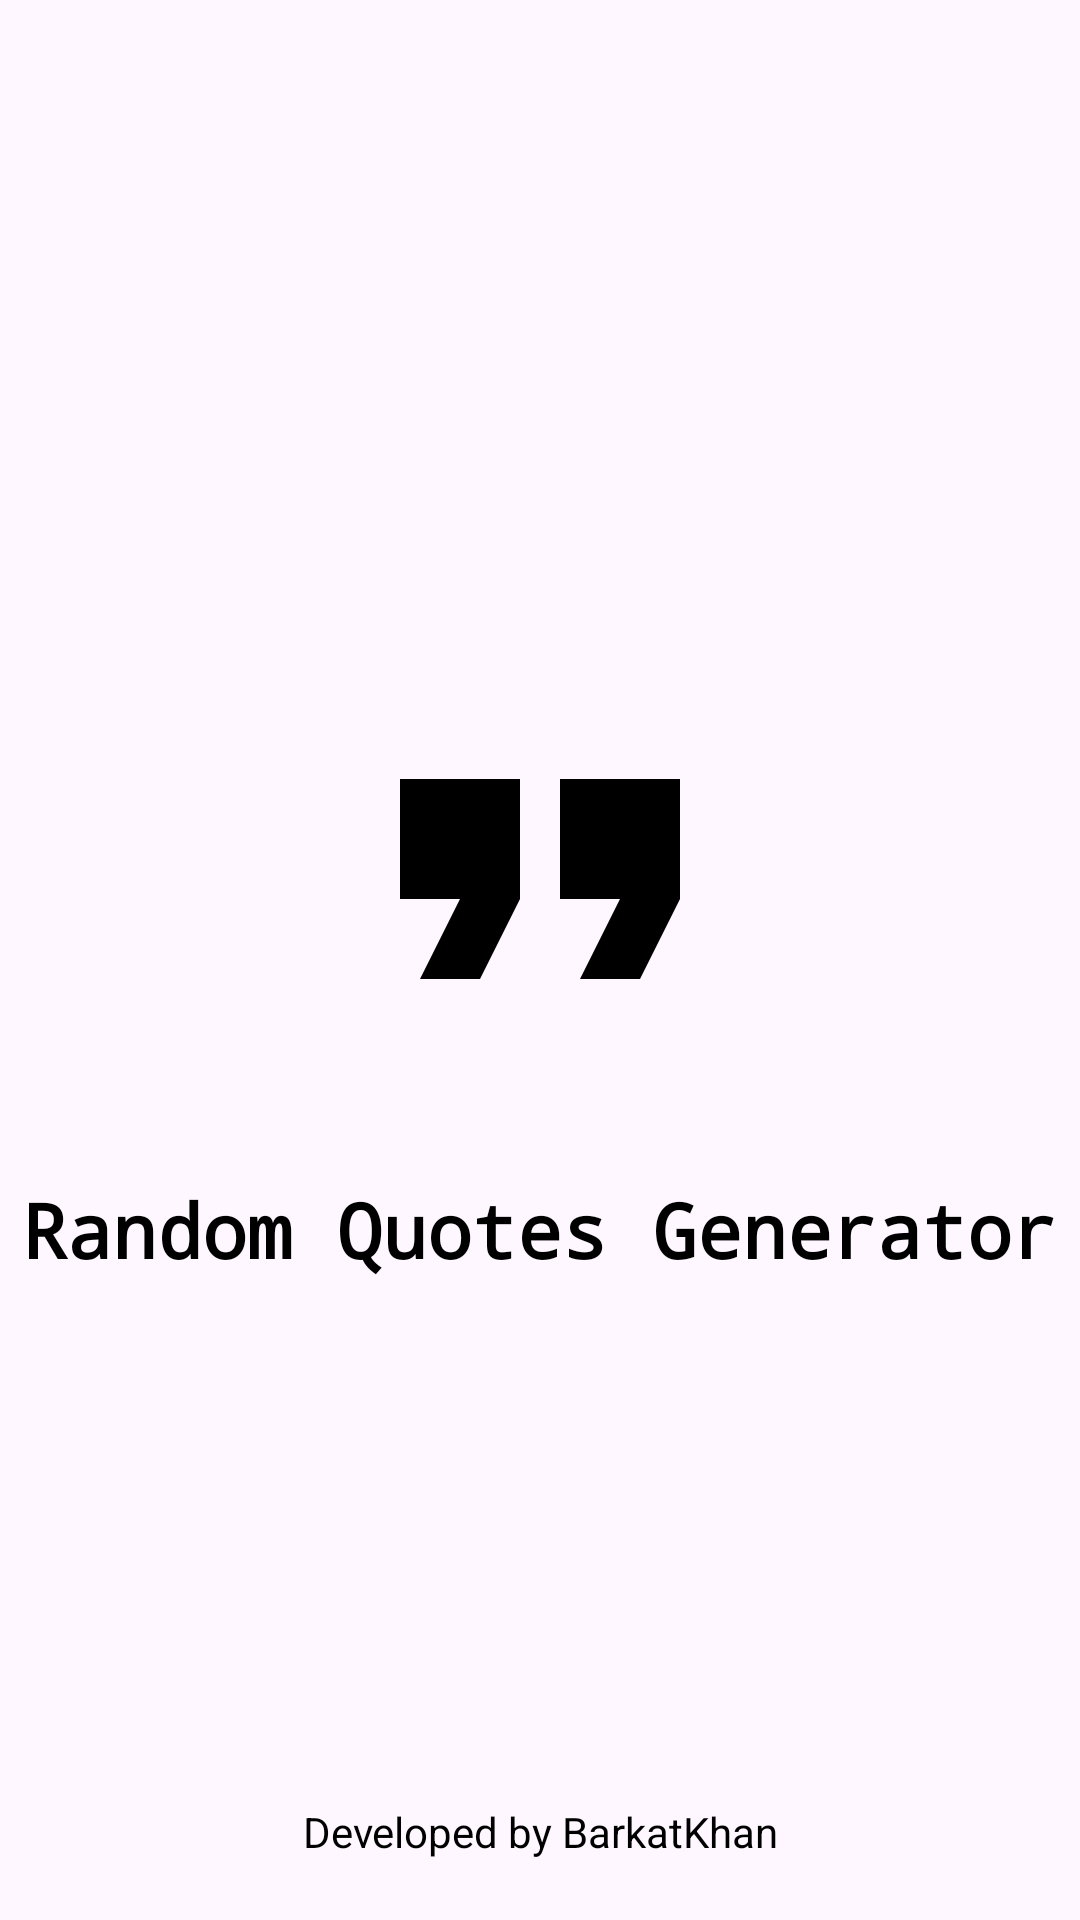

Icon bounding boxes for this 1080px×1920px phone screenshot, format detection(x1, y1, x2, y2):
quotesicon: detection(400, 779, 680, 979)
